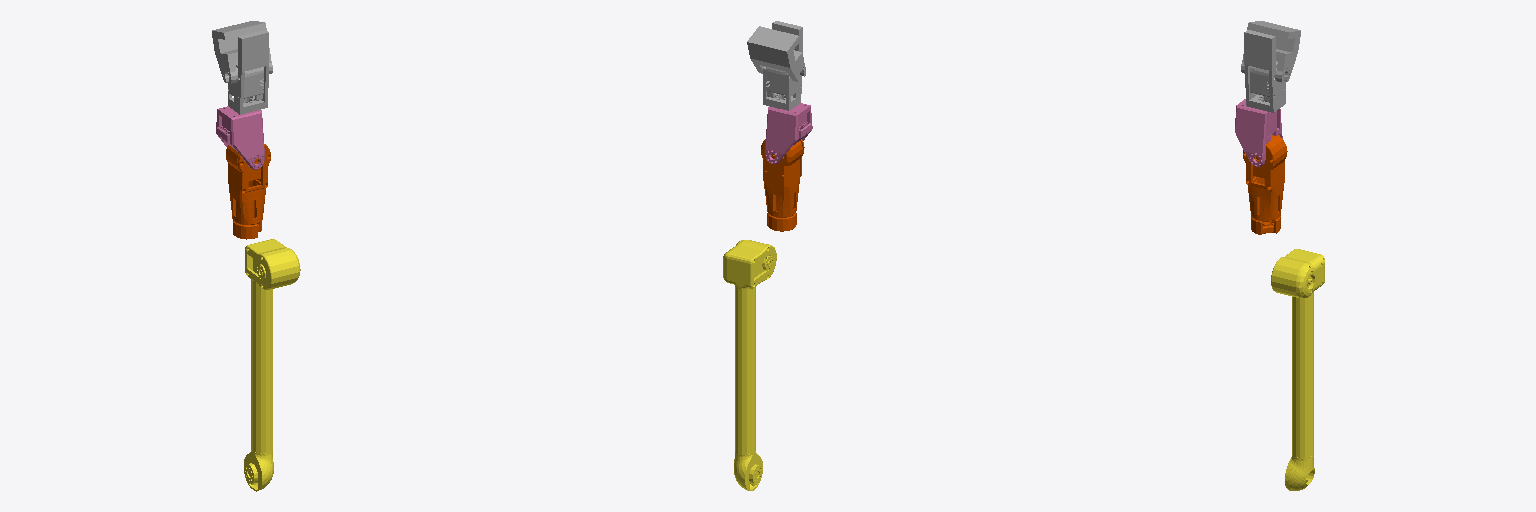
robot.urdf — RobotArm_latest_v4:
<!-- <?xml version="1.0" encoding="utf-8"?> -->
<robot name="RobotArm_latest_v4">
	<link name="1axisUnit_V2_v1:1">
		<inertial>
			<mass value="1.6492919058275461"/>
			<origin rpy="0 0 0" xyz="-0.000576388088246092 0.0016491640558422408 0.0015186369656774057"/>
			<inertia ixx="0.003919393469982381" ixy="-3.2319365894090847e-06" ixz="2.1439122441835943e-05" iyy="0.003813861655533455" iyz="-1.3107000977914124e-05" izz="0.005373773666601636"/>
		</inertial>
		<collision name="1axisUnit_V2_v1:1_collision">
			<origin rpy="1.5707963267948915 6.523902405371839e-23 -1.6940658945086007e-21" xyz="4.440892098500635e-18 -9.769962616701378e-17 -1.509903313490213e-16"/>
			<geometry>
				<mesh filename="package:../meshes/1axisUnit_V2_v1.stl" scale="1.0 1.0 1.0"/>
			</geometry>
		</collision>
		<visual name="1axisUnit_V2_v1:1_visual">
			<origin rpy="1.5707963267948915 6.523902405371839e-23 -1.6940658945086007e-21" xyz="4.440892098500635e-18 -9.769962616701378e-17 -1.509903313490213e-16"/>
			<geometry>
				<mesh filename="package:../meshes/1axisUnit_V2_v1.stl" scale="1.0 1.0 1.0"/>
			</geometry>
		</visual>
	</link>
	<link name="2axisUnit_V2_v1:1">
		<inertial>
			<mass value="1.2904396303449601"/>
			<origin rpy="0 0 0" xyz="2.4656351633139383e-06 -2.8915223362521925e-06 0.04025801037904122"/>
			<inertia ixx="0.003359360159203426" ixy="-2.7205016441996785e-07" ixz="8.705883460394097e-08" iyy="0.002901837881422392" iyz="-1.8124689093922272e-07" izz="0.004350868283339188"/>
		</inertial>
		<collision name="2axisUnit_V2_v1:1_collision">
			<origin rpy="1.5707963267948906 6.523902405371838e-23 -1.6940658945086007e-21" xyz="0.0 0.0 0.0"/>
			<geometry>
				<mesh filename="package:../meshes/2axisUnit_V2_v1.stl" scale="1.0 1.0 1.0"/>
			</geometry>
		</collision>
		<visual name="2axisUnit_V2_v1:1_visual">
			<origin rpy="1.5707963267948906 6.523902405371838e-23 -1.6940658945086007e-21" xyz="0.0 0.0 0.0"/>
			<geometry>
				<mesh filename="package:../meshes/2axisUnit_V2_v1.stl" scale="1.0 1.0 1.0"/>
			</geometry>
		</visual>
	</link>
	<link name="3axisUnit_V3_v1:1">
		<inertial>
			<mass value="0.24656823524718646"/>
			<origin rpy="0 0 0" xyz="0.02255647088429151 0.01071370705918008 0.1903083823864123"/>
			<inertia ixx="0.00414005444517233" ixy="5.23365524210864e-06" ixz="7.708919417689804e-05" iyy="0.0040981689273819144" iyz="-0.00028010926245052123" izz="0.00012200890992039978"/>
		</inertial>
		<collision name="3axisUnit_V3_v1:1_collision">
			<origin rpy="-3.141592653589787 4.0371743676253047e-16 -3.1415926535897927" xyz="0.04 0.031000000000002068 0.2964999999999997"/>
			<geometry>
				<mesh filename="package:../meshes/3axisUnit_V3_v1.stl" scale="1.0 1.0 1.0"/>
			</geometry>
		</collision>
		<visual name="3axisUnit_V3_v1:1_visual">
			<origin rpy="-3.141592653589787 4.0371743676253047e-16 -3.1415926535897927" xyz="0.04 0.031000000000002068 0.2964999999999997"/>
			<geometry>
				<mesh filename="package:../meshes/3axisUnit_V3_v1.stl" scale="1.0 1.0 1.0"/>
			</geometry>
		</visual>
	</link>
	<link name="4axisUnit_V3_v1:1">
		<inertial>
			<mass value="0.22835968151193015"/>
			<origin rpy="0 0 0" xyz="0.022527227877253635 -0.011567967503123396 0.2152054112615837"/>
			<inertia ixx="0.003458123011900193" ixy="6.333484787883625e-06" ixz="-9.830290084979084e-05" iyy="0.0034133992070581372" iyz="0.0002407567649558505" izz="0.00011322979019264717"/>
		</inertial>
		<collision name="4axisUnit_V3_v1:1_collision">
			<origin rpy="3.1415926535779786 -6.566118286595108e-16 -1.9338981913259723e-15" xyz="0.027399327255467502 -0.01560367610838086 0.2922499996913254"/>
			<geometry>
				<mesh filename="../meshes/4axisUnit_V3_v1.stl" scale="1.0 1.0 1.0"/>
			</geometry>
		</collision>
		<visual name="4axisUnit_V3_v1:1_visual">
			<origin rpy="3.1415926535779786 -6.566118286595108e-16 -1.9338981913259723e-15" xyz="0.027399327255467502 -0.01560367610838086 0.2922499996913254"/>
			<geometry>
				<mesh filename="../meshes/4axisUnit_V3_v1.stl" scale="1.0 1.0 1.0"/>
			</geometry>
		</visual>
	</link>
	<link name="5axisUnit_V2_v1:1">
		<inertial>
			<mass value="0.15898340253563104"/>
			<origin rpy="0 0 0" xyz="-0.032330261371653984 1.1835534350135143e-05 0.021640892702850745"/>
			<inertia ixx="0.00011681316189311702" ixy="3.1570735792074495e-08" ixz="4.5503994442626095e-07" iyy="0.00013277822169795853" iyz="-3.057968772300513e-08" izz="7.633901854223706e-05"/>
		</inertial>
		<collision name="5axisUnit_V2_v1:1_collision">
			<origin rpy="-1.8166746468720625 -1.5707963267948943 1.817381524874677" xyz="-0.008000000000000009 -1.9436126427891806e-16 -2.220446049250313e-16"/>
			<geometry>
				<mesh filename="../meshes/5axisUnit_V2_v1.stl" scale="1.0 1.0 1.0"/>
			</geometry>
		</collision>
		<visual name="5axisUnit_V2_v1:1_visual">
			<origin rpy="-1.8166746468720625 -1.5707963267948943 1.817381524874677" xyz="-0.008000000000000009 -1.9436126427891806e-16 -2.220446049250313e-16"/>
			<geometry>
				<mesh filename="../meshes/5axisUnit_V2_v1.stl" scale="1.0 1.0 1.0"/>
			</geometry>
		</visual>
	</link>
	<link name="6axisUnit_V2_v1:1">
		<inertial>
			<mass value="0.155294452473962"/>
			<origin rpy="0 0 0" xyz="-0.00019868381399057997 0.0008707799634595213 0.08131429843948212"/>
			<inertia ixx="0.00025461657762102733" ixy="-3.154100817581795e-07" ixz="-2.043171342398531e-06" iyy="0.0002581275245912366" iyz="4.081389396346191e-06" izz="4.467764847505855e-05"/>
		</inertial>
		<collision name="6axisUnit_V2_v1:1_collision">
			<origin rpy="-3.141592653589775 -6.440245808144577e-15 -4.570451759405106e-06" xyz="-0.010452005194530973 -0.02074995222983164 0.019999999999998908"/>
			<geometry>
				<mesh filename="../meshes/6axisUnit_V2_v1.stl" scale="1.0 1.0 1.0"/>
			</geometry>
		</collision>
		<visual name="6axisUnit_V2_v1:1_visual">
			<origin rpy="-3.141592653589775 -6.440245808144577e-15 -4.570451759405106e-06" xyz="-0.010452005194530973 -0.02074995222983164 0.019999999999998908"/>
			<geometry>
				<mesh filename="../meshes/6axisUnit_V2_v1.stl" scale="1.0 1.0 1.0"/>
			</geometry>
		</visual>
	</link>
	<link name="7axisUnit_V2_v1:1">
		<inertial>
			<mass value="0.09420837413767698"/>
			<origin rpy="0 0 0" xyz="-0.011722505262838257 0.021969912068283973 0.04174325396554135"/>
			<inertia ixx="4.3079417761919105e-05" ixy="3.2853663984358514e-08" ixz="9.229365199608708e-07" iyy="4.0408524237523126e-05" iyz="-8.273741230857556e-09" izz="3.538526789725462e-05"/>
		</inertial>
		<collision name="7axisUnit_V2_v1:1_collision">
			<origin rpy="1.5707963267830969 -7.660538730665756e-15 -1.5708054676865917" xyz="-0.009499890595103339 0.021950086164177575 0.030000000000111604"/>
			<geometry>
				<mesh filename="../meshes/7axisUnit_V2_v1.stl" scale="1.0 1.0 1.0"/>
			</geometry>
		</collision>
		<visual name="7axisUnit_V2_v1:1_visual">
			<origin rpy="1.5707963267830969 -7.660538730665756e-15 -1.5708054676865917" xyz="-0.009499890595103339 0.021950086164177575 0.030000000000111604"/>
			<geometry>
				<mesh filename="../meshes/7axisUnit_V2_v1.stl" scale="1.0 1.0 1.0"/>
			</geometry>
		</visual>
	</link>
	<link name="RobotHandUnit_v1:1">
		<inertial>
			<mass value="0.17069797278417315"/>
			<origin rpy="0 0 0" xyz="0.00014835427835340625 0.005990671856333019 0.06235743656459469"/>
			<inertia ixx="0.0001920533040766486" ixy="9.567758909769614e-08" ixz="1.4613630495019293e-06" iyy="0.00019598360062871053" iyz="-2.664575053557936e-05" izz="8.587431142091076e-05"/>
		</inertial>
		<collision name="RobotHandUnit_v1:1_collision">
			<origin rpy="3.1268194674078814e-06 1.1796908009783832e-11 -9.14090351295226e-06" xyz="-0.0021078530678332098 0.015999882602897218 0.06400006819415038"/>
			<geometry>
				<mesh filename="../meshes/RobotHandUnit_v1.stl" scale="1.0 1.0 1.0"/>
			</geometry>
		</collision>
		<visual name="RobotHandUnit_v1:1_visual">
			<origin rpy="3.1268194674078814e-06 1.1796908009783832e-11 -9.14090351295226e-06" xyz="-0.0021078530678332098 0.015999882602897218 0.06400006819415038"/>
			<geometry>
				<mesh filename="../meshes/RobotHandUnit_v1.stl" scale="1.0 1.0 1.0"/>
			</geometry>
		</visual>
	</link>
	<joint name="rev0" type="continuous">
		<parent link="1axisUnit_V2_v1:1"/>
		<child link="2axisUnit_V2_v1:1"/>
		<origin rpy="0 0 0" xyz="3.552713678800501e-17 2.3980817331903383e-16 0.04799999999999983"/>
		<axis xyz="2.0816698767959734e-16 -6.158584260590885e-15 -1.0"/>
	</joint>
	<joint name="rev1" type="continuous">
		<parent link="2axisUnit_V2_v1:1"/>
		<child link="3axisUnit_V3_v1:1"/>
		<origin rpy="0 0 0" xyz="-0.025999999999999995 8.320618415054219e-16 0.11450000000000005"/>
		<axis xyz="-1.0 -4.0371576943416255e-16 6.523902654259343e-23"/>
	</joint>
	<joint name="rev2" type="continuous">
		<parent link="3axisUnit_V3_v1:1"/>
		<child link="4axisUnit_V3_v1:1"/>
		<origin rpy="0 0 0" xyz="0.04550000000005672 0.030999999999995993 0.29650000000128046"/>
		<axis xyz="-1.0 -9.844131683898484e-17 -5.301650432419836e-16"/>
	</joint>
	<joint name="rev3" type="continuous">
		<parent link="4axisUnit_V3_v1:1"/>
		<child link="5axisUnit_V2_v1:1"/>
		<origin rpy="0 0 0" xyz="-5.608707942528213e-14 -0.030999999996372648 0.3065000000016464"/>
		<axis xyz="1.0 -2.3501954084031312e-15 5.301642221836653e-16"/>
	</joint>
	<joint name="rev4" type="continuous">
		<parent link="5axisUnit_V2_v1:1"/>
		<child link="6axisUnit_V2_v1:1"/>
		<origin rpy="0 0 0" xyz="-0.01999999091727354 2.0682211801997738e-08 0.06149999999619804"/>
		<axis xyz="6.240610788446815e-15 1.8161855574136197e-14 -0.9999999999999992"/>
	</joint>
	<joint name="rev5" type="continuous">
		<parent link="6axisUnit_V2_v1:1"/>
		<child link="7axisUnit_V2_v1:1"/>
		<origin rpy="0 0 0" xyz="-9.940860663077648e-08 -0.021749999995972314 0.11499999999999366"/>
		<axis xyz="4.57045175377596e-06 0.9999999999895557 1.0152997878510744e-14"/>
	</joint>
	<joint name="rev6" type="continuous">
		<parent link="7axisUnit_V2_v1:1"/>
		<child link="RobotHandUnit_v1:1"/>
		<origin rpy="0 0 0" xyz="1.0940496034898134e-07 0.021949999326987008 0.0694999999961976"/>
		<axis xyz="-1.18050314673078e-11 1.0498257834049587e-14 -0.9999999999999994"/>
	</joint>
</robot>

--- What the picture shows (computed from the rendered views, not written in the file) ---
Views: 3 orthographic renders of the robot side by side, from view 1: azimuth 30°, elevation 25°; view 2: azimuth 150°, elevation 25°; view 3: azimuth 330°, elevation 25°.
Model RobotArm_latest_v4 with 8 links and 7 joints (7 continuous), rooted at 1axisUnit_V2_v1:1, posed all joints at 0.
Visible links, largest first — view 1: 4axisUnit_V3_v1:1, RobotHandUnit_v1:1, 6axisUnit_V2_v1:1, 7axisUnit_V2_v1:1; view 2: 4axisUnit_V3_v1:1, RobotHandUnit_v1:1, 6axisUnit_V2_v1:1, 7axisUnit_V2_v1:1; view 3: 4axisUnit_V3_v1:1, RobotHandUnit_v1:1, 6axisUnit_V2_v1:1, 7axisUnit_V2_v1:1.
Boxes of the visible links, x1=… form: 4axisUnit_V3_v1:1: x1=244, y1=239, x2=300, y2=491; RobotHandUnit_v1:1: x1=212, y1=21, x2=272, y2=114; 6axisUnit_V2_v1:1: x1=226, y1=144, x2=270, y2=239; 7axisUnit_V2_v1:1: x1=216, y1=106, x2=264, y2=169; 4axisUnit_V3_v1:1: x1=723, y1=240, x2=776, y2=490; RobotHandUnit_v1:1: x1=747, y1=21, x2=805, y2=110; 6axisUnit_V2_v1:1: x1=761, y1=139, x2=804, y2=231; 7axisUnit_V2_v1:1: x1=765, y1=103, x2=812, y2=163; 4axisUnit_V3_v1:1: x1=1271, y1=249, x2=1324, y2=490; RobotHandUnit_v1:1: x1=1241, y1=21, x2=1300, y2=112; 6axisUnit_V2_v1:1: x1=1243, y1=134, x2=1287, y2=234; 7axisUnit_V2_v1:1: x1=1235, y1=99, x2=1282, y2=166.
Size in the robot's own frame: 0.11 by 0.083 by 0.6898 metres.
Meshes: 5 distinct files referenced, 4 mesh visuals loaded (4 binary STL); not drawn: 1 (reference not matched to a file when rendering), 3 (reference in a form the renderer does not follow; not among the files counted above).